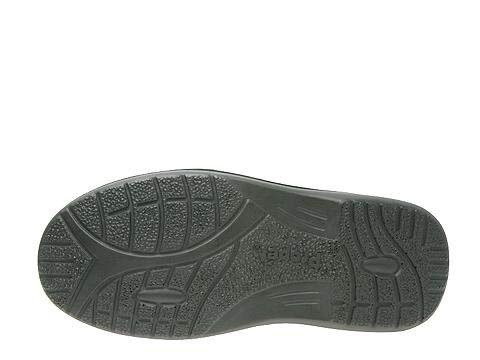circle: (340, 210, 438, 324), (91, 273, 225, 337), (252, 239, 332, 278)
quad: (340, 210, 438, 324), (97, 173, 231, 249), (91, 273, 225, 337)
text: (252, 239, 332, 278)
